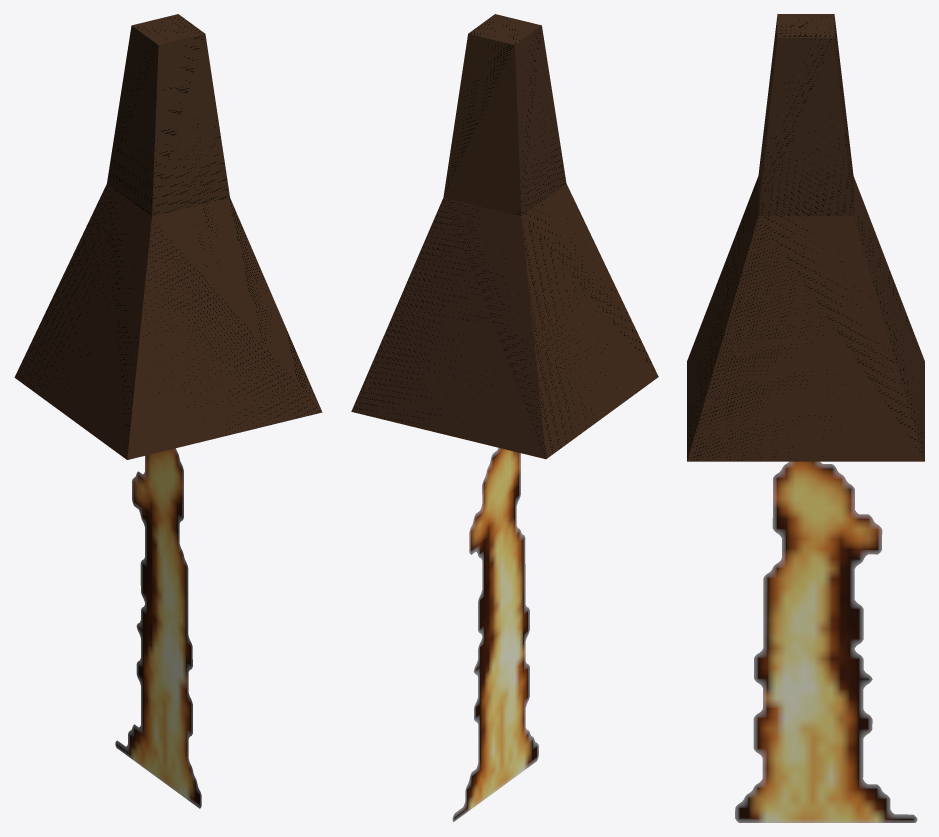
The model's file is TORCH.obj.
3 renders of one model, left to right at view 1: azimuth 30°, elevation 25°; view 2: azimuth 150°, elevation 25°; view 3: azimuth 270°, elevation 25°, orthographic. The views are drawn at different scales.
Visible parts, largest first — view 1: Cube; view 2: Cube; view 3: Cube.
Part boxes in pixels (x1=…): Cube: x1=14, y1=14, x2=322, y2=808; Cube: x1=351, y1=14, x2=658, y2=821; Cube: x1=687, y1=14, x2=924, y2=822.
Bounding box in the file's own units: 1.02 × 3.76 × 1.02.
Materials: 2 (2 with a texture image).
